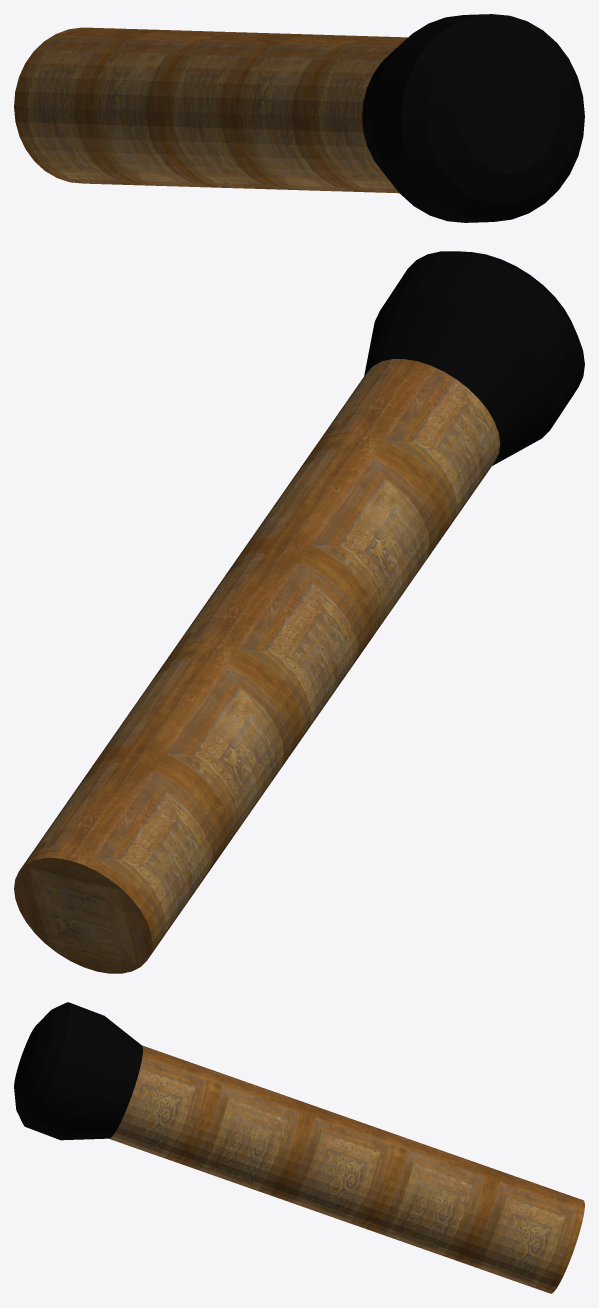
The model's file is lever.fbx.
3 renders of one model, top to bottom at view 1: azimuth 30°, elevation 25°; view 2: azimuth 150°, elevation 25°; view 3: azimuth 270°, elevation 25°, orthographic. The views are drawn at different scales.
Visible parts, largest first — view 1: Cylinder; view 2: Cylinder; view 3: Cylinder.
Part boxes in pixels (x1,y1,x2,y2): Cylinder: (14, 14, 584, 222); Cylinder: (14, 251, 584, 973); Cylinder: (14, 1002, 584, 1293).
Size of the model in its own units: 11.09 by 25.94 by 47.9.
